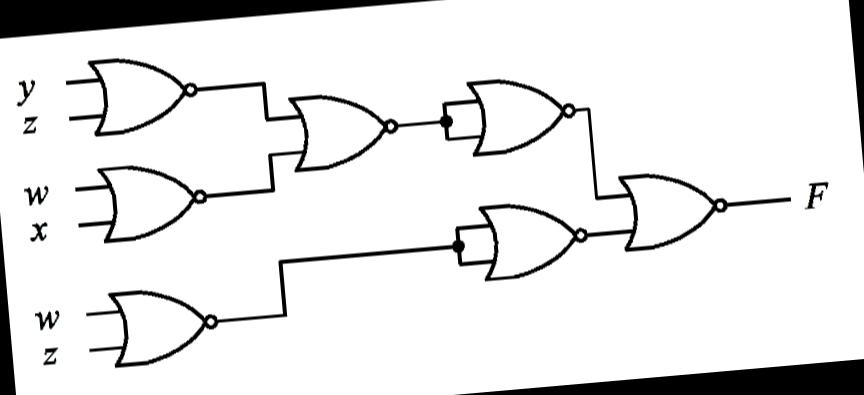nor: (273, 68, 412, 188), (606, 148, 747, 263), (93, 266, 231, 380), (72, 39, 210, 148), (460, 184, 599, 292), (450, 59, 587, 166), (82, 149, 222, 252)
